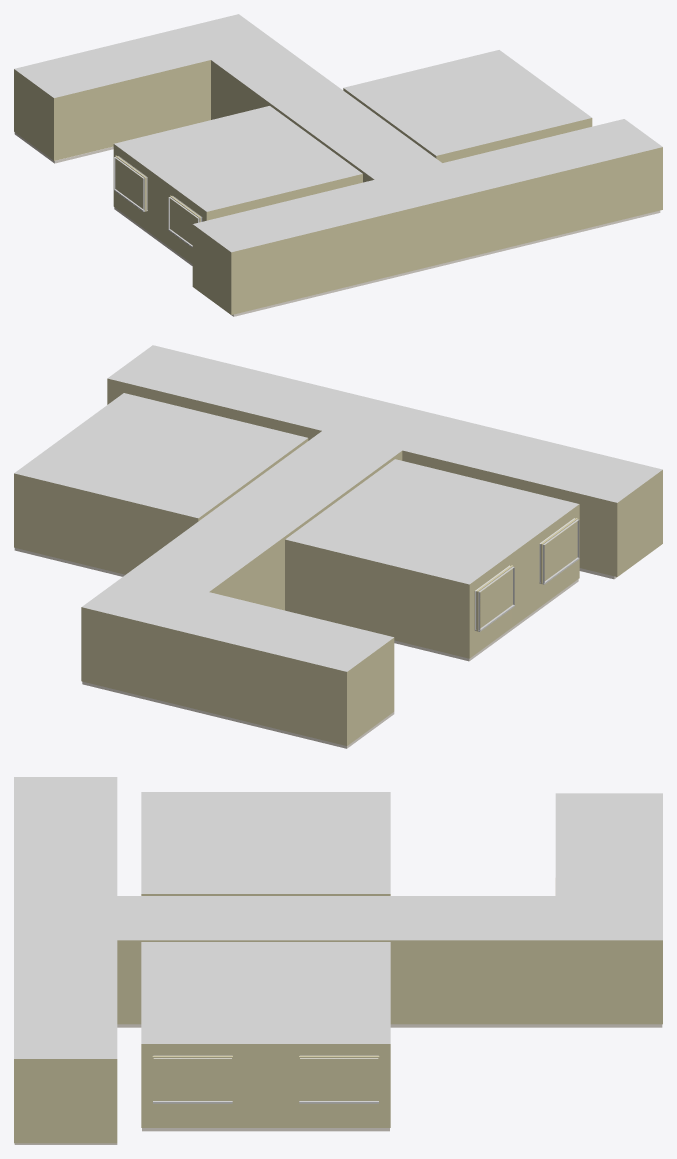
The model's file is Enviroment.fbx.
3 renders of one model, top to bottom at view 1: azimuth 30°, elevation 25°; view 2: azimuth 150°, elevation 25°; view 3: azimuth 270°, elevation 25°, orthographic. The views are drawn at different scales.
Parts seen in each view (by area): view 1: Corridor, Room; view 2: Corridor, Room; view 3: Corridor, Room.
Part boxes in pixels (x1,y1,x2,y2): Corridor: (14,14,662,316); Room: (113,50,592,265); Corridor: (81,345,662,748); Room: (14,393,579,661); Corridor: (14,777,662,1144); Room: (141,792,390,1131).
Bounding box in the file's own units: 1590 × 230 × 1546.
